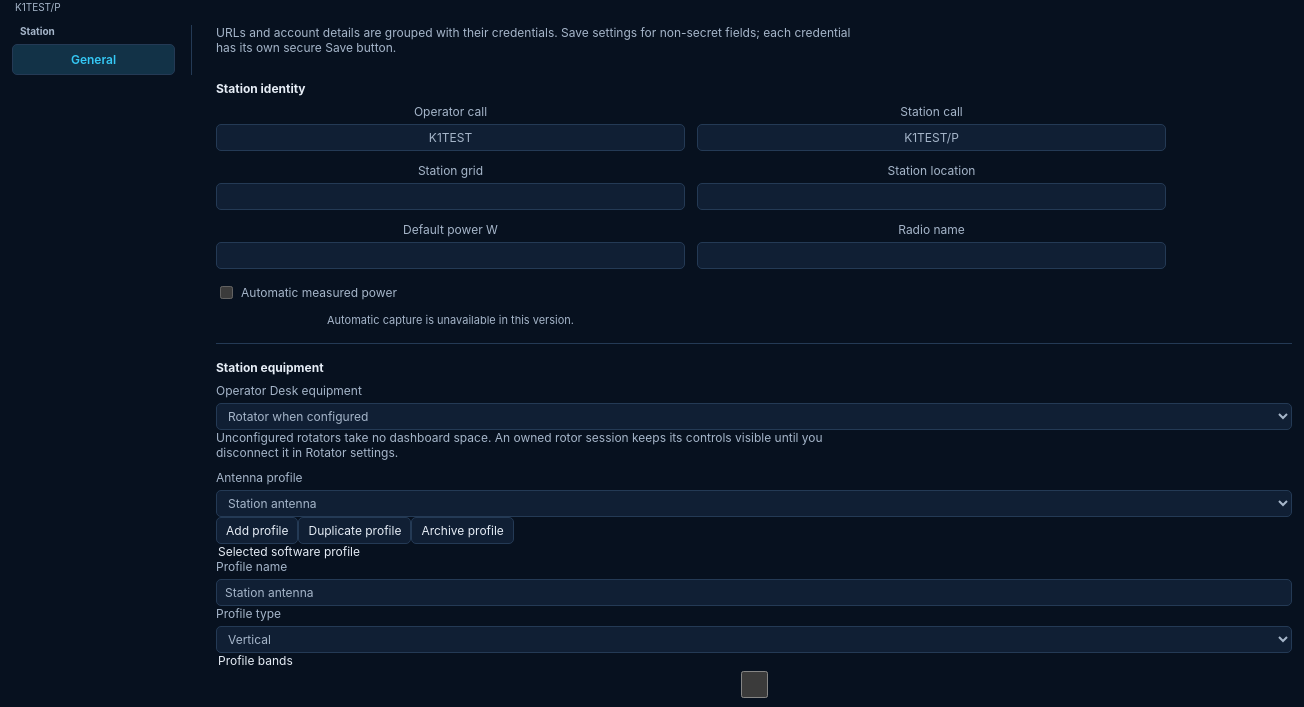
retains conflict recovery without success feedback or a post-save read
Replace the text in the field labelled "Station call" with "TEST1" at (932, 138), box [697,124,1166,151]
(page scrolled)
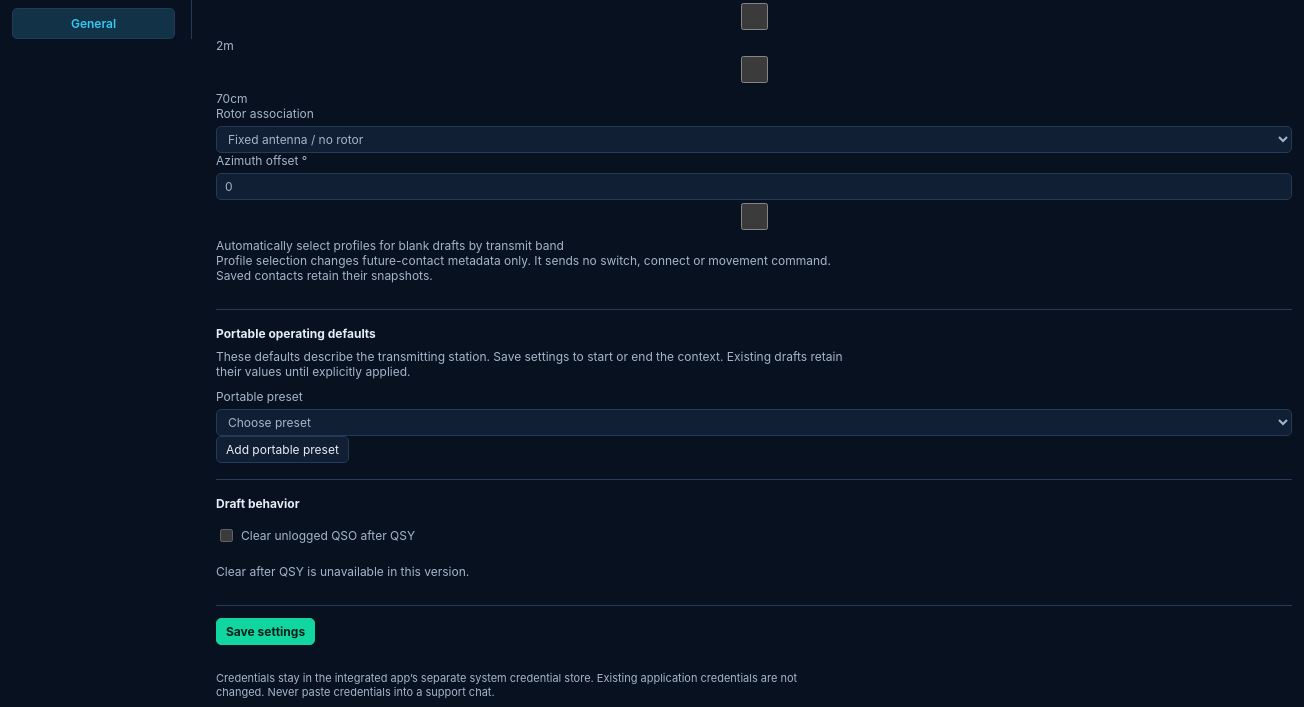
Click the button "Save settings" at (266, 632), box [216,618,315,645]
(page scrolled)
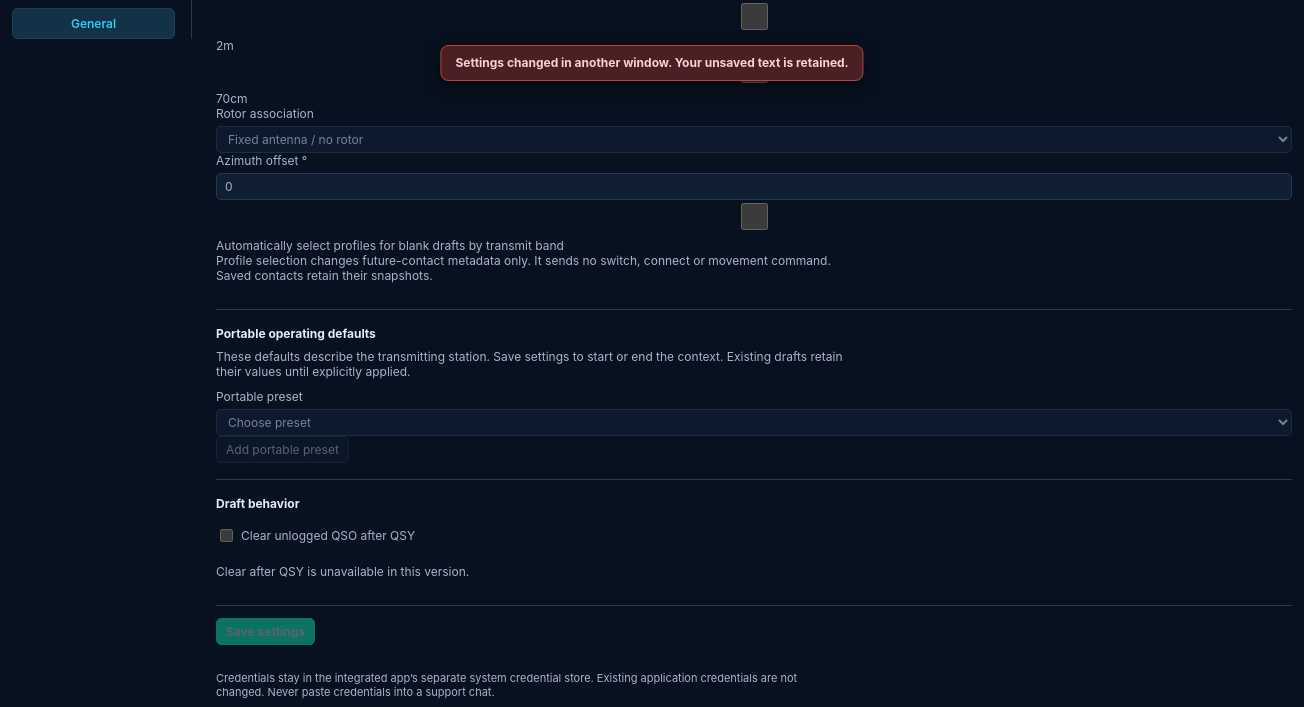
Result: the message "Settings changed in another window. Your unsaved text is retained." is shown at [440,45,864,81]
